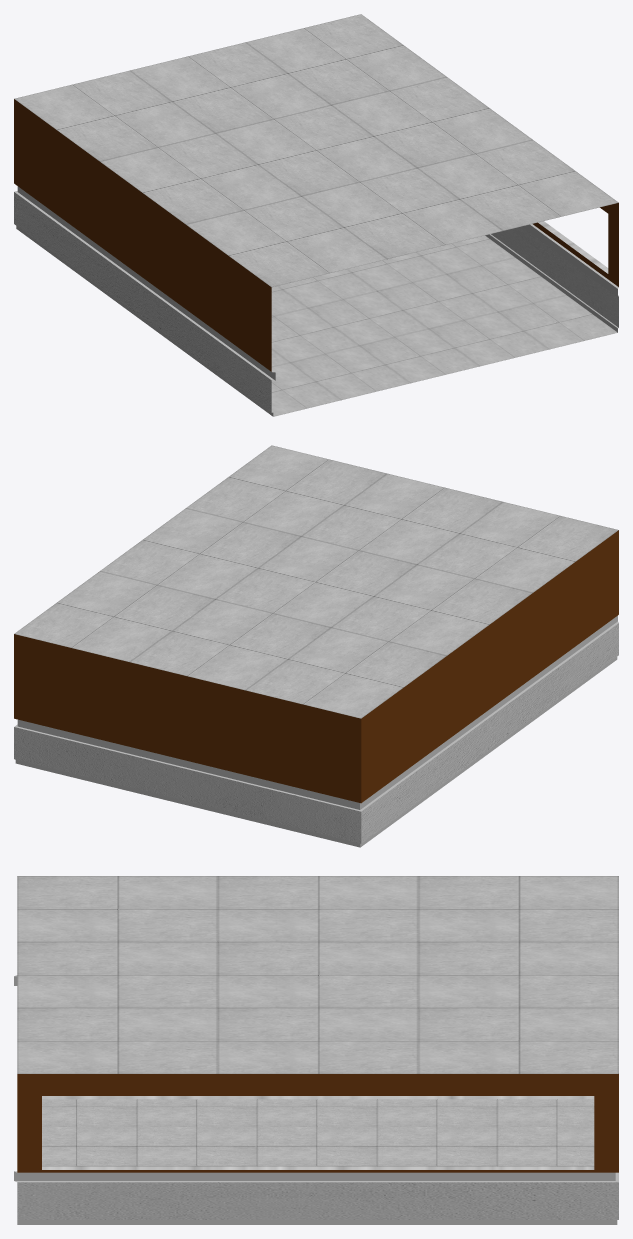
File: sala.obj
The picture shows the model from 3 angles, top to bottom: view 1: azimuth 30°, elevation 25°; view 2: azimuth 150°, elevation 25°; view 3: azimuth 270°, elevation 25°; orthographic projection. The views are drawn at different scales.
Parts seen in each view (by area): view 1: Cube_Cube.001; view 2: Cube_Cube.001; view 3: Cube_Cube.001.
Boxes of the visible parts, x1,y1,x2,y2 form: Cube_Cube.001: (14, 14, 618, 416); Cube_Cube.001: (14, 445, 618, 847); Cube_Cube.001: (14, 876, 618, 1224).
Bounding box in the file's own units: 7.12 × 2.5 × 9.05.
